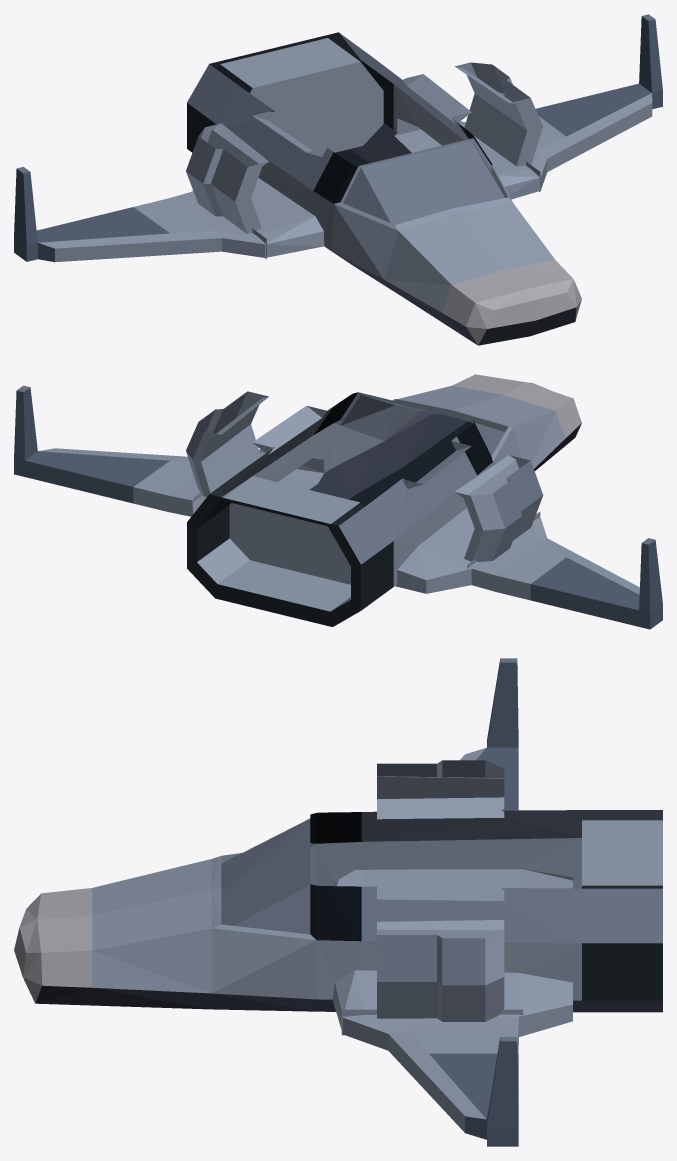
The model's file is Spaceship_interior.obj.
The picture shows the model from 3 angles, top to bottom: view 1: azimuth 30°, elevation 25°; view 2: azimuth 150°, elevation 25°; view 3: azimuth 270°, elevation 25°; orthographic projection. The views are drawn at different scales.
Parts seen in each view (by area): view 1: Spaceship5; view 2: Spaceship5; view 3: Spaceship5.
Part boxes in pixels (x1,y1,x2,y2): Spaceship5: [14, 14, 662, 345]; Spaceship5: [14, 374, 662, 629]; Spaceship5: [14, 658, 662, 1146].
Size of the model in its own units: 63.74 by 9.89 by 45.37.
